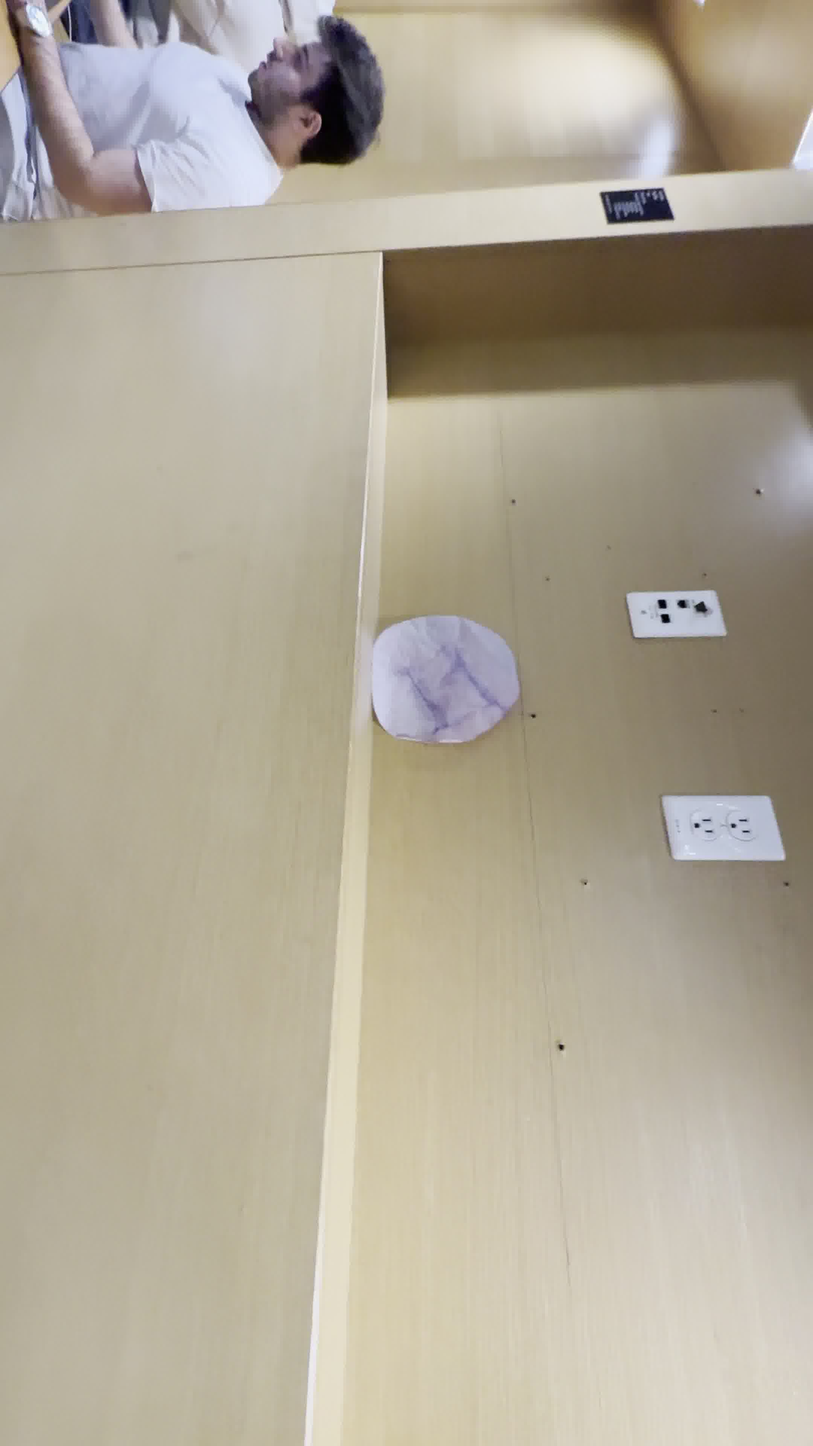Target: (376, 610, 518, 745)
